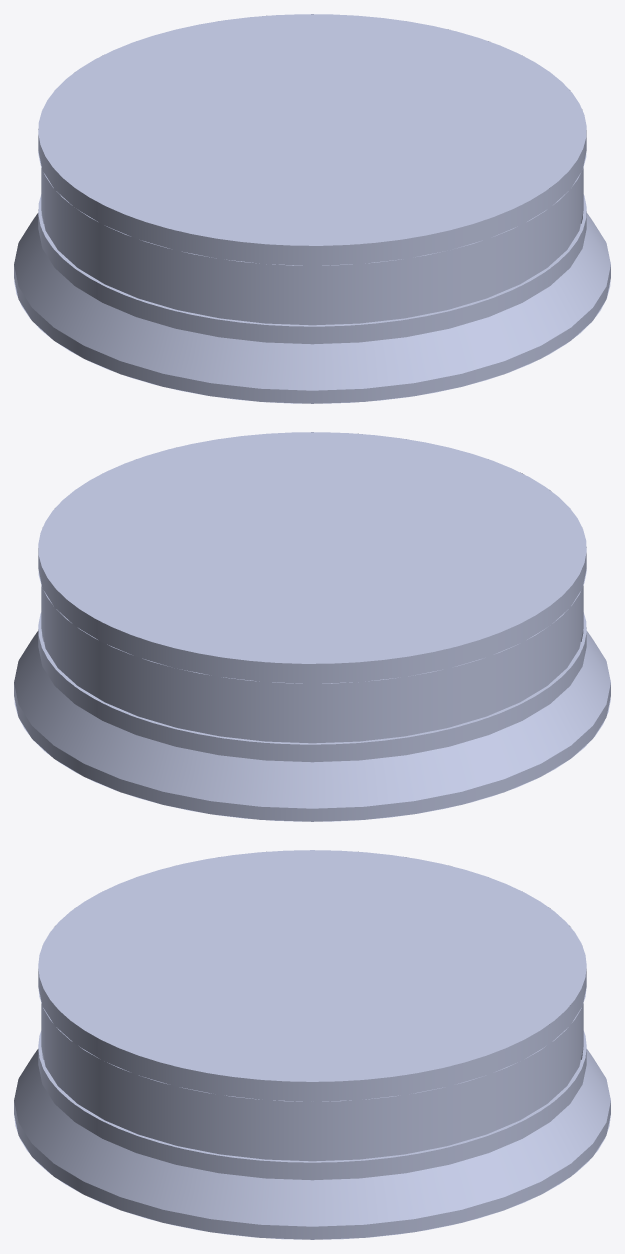
Rendered from clamp_j32_j32.glb.
3 renders of one model, top to bottom at view 1: azimuth 30°, elevation 25°; view 2: azimuth 150°, elevation 25°; view 3: azimuth 270°, elevation 25°, orthographic.
Parts seen in each view (by area): view 1: clamp_J32_J32.IGS (×13); view 2: clamp_J32_J32.IGS (×13); view 3: clamp_J32_J32.IGS (×13).
Part boxes in pixels (bbox=[...]): clamp_J32_J32.IGS (×13): bbox=[14, 14, 610, 403]; clamp_J32_J32.IGS (×13): bbox=[14, 432, 610, 821]; clamp_J32_J32.IGS (×13): bbox=[14, 850, 610, 1239].
Bounding box in the file's own units: 0.185 × 0.0505 × 0.185.
